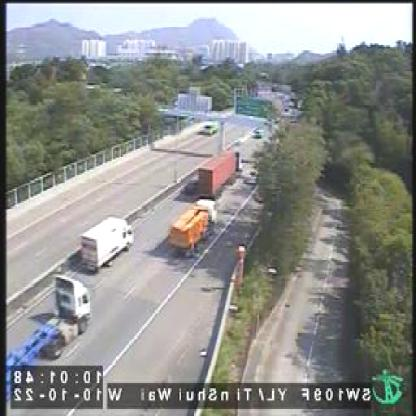Car: (47, 274, 90, 325), (184, 178, 198, 198)
Truck: (17, 284, 91, 364), (80, 214, 133, 270), (167, 198, 218, 254), (197, 151, 237, 199)
